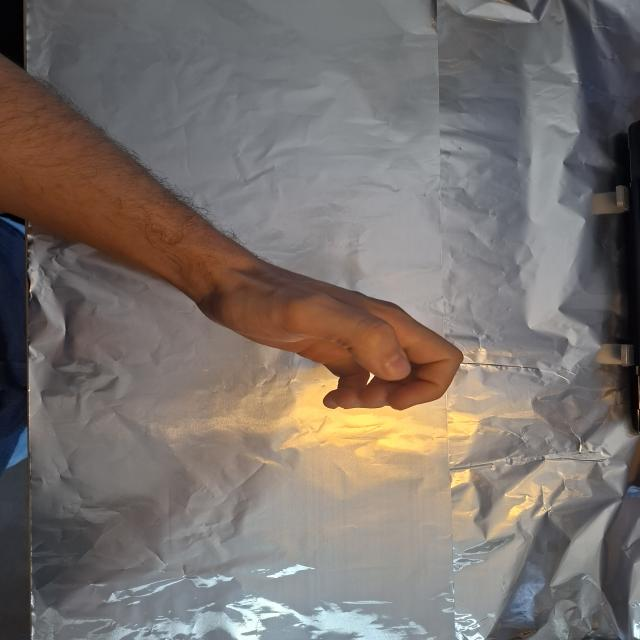glove_off: (193, 265, 467, 412)
